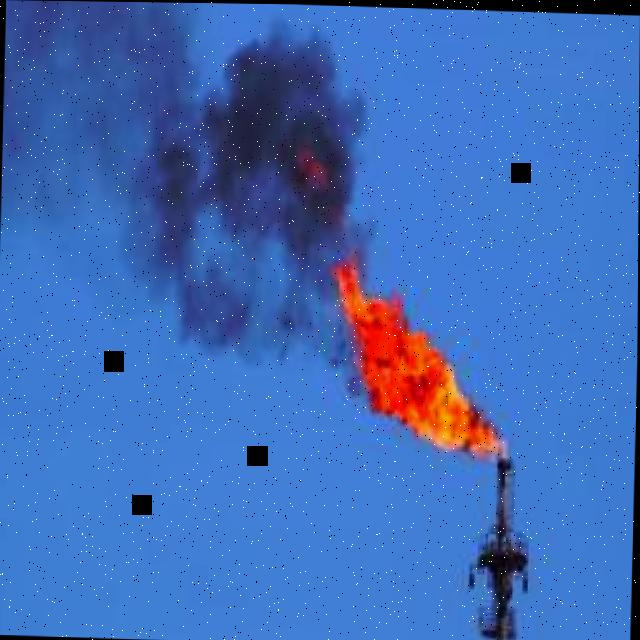fire: (329, 243, 499, 464)
smoke: (2, 0, 377, 396)
